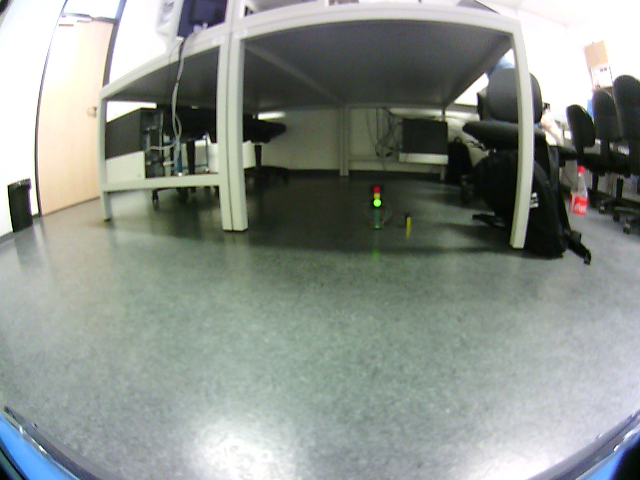green trafficlight: (372, 184, 382, 210)
